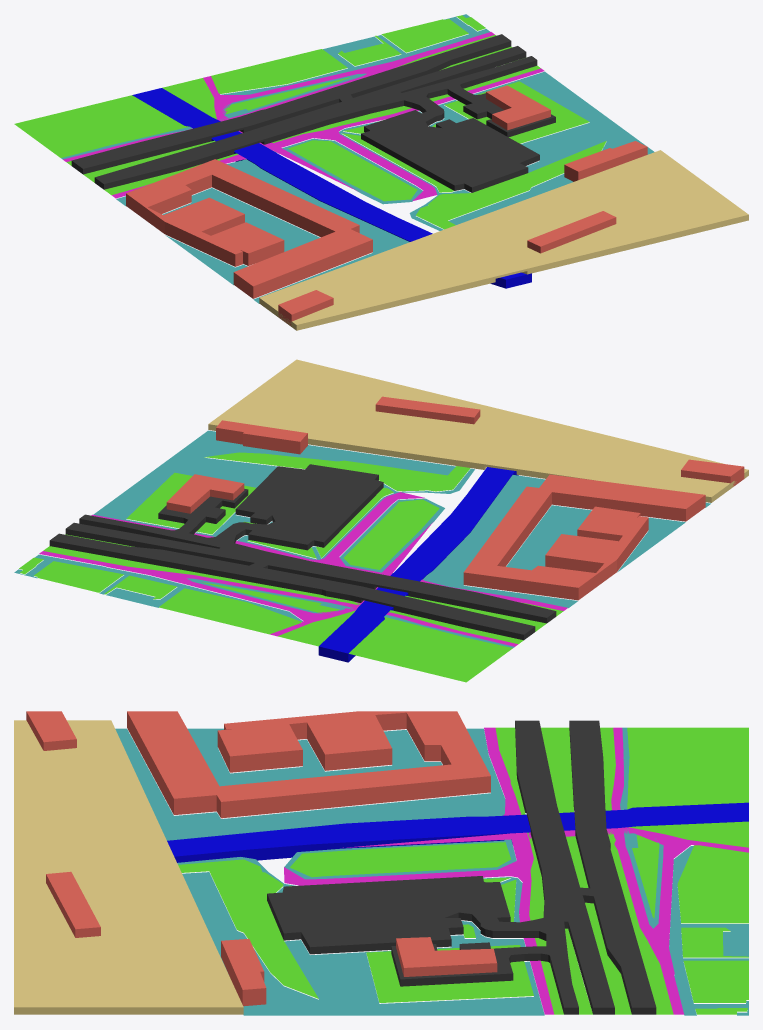
File: mapdata exported.fbx
3 views of the same model, one above another, from view 1: azimuth 30°, elevation 25°; view 2: azimuth 150°, elevation 25°; view 3: azimuth 270°, elevation 25° (orthographic). The views are drawn at different scales.
Visible parts, largest first — view 1: Traintracks, Urban, Greenery, Buildings, Walking area, River, Bike lane; view 2: Urban, Traintracks, Greenery, Buildings, Walking area, River, Bike lane; view 3: Greenery, Traintracks, Urban, Buildings, Walking area, River, Bike lane.
Boxes of the visible parts, left/top/right/bottom form: Traintracks: left=259, top=150, right=748, bottom=330; Urban: left=71, top=34, right=555, bottom=192; Greenery: left=14, top=15, right=606, bottom=229; Buildings: left=126, top=85, right=647, bottom=326; Walking area: left=61, top=14, right=654, bottom=303; River: left=132, top=88, right=531, bottom=288; Bike lane: left=63, top=32, right=544, bottom=201; Urban: left=49, top=464, right=556, bottom=640; Traintracks: left=208, top=359, right=748, bottom=502; Greenery: left=19, top=452, right=563, bottom=682; Buildings: left=166, top=396, right=744, bottom=600; Walking area: left=14, top=430, right=710, bottom=647; River: left=318, top=467, right=518, bottom=662; Bike lane: left=39, top=492, right=567, bottom=646; Greenery: left=178, top=727, right=748, bottom=1014; Traintracks: left=14, top=720, right=243, bottom=1014; Urban: left=267, top=720, right=656, bottom=1014; Buildings: left=26, top=711, right=497, bottom=1006; Walking area: left=115, top=727, right=748, bottom=1015; River: left=167, top=802, right=748, bottom=862; Bike lane: left=284, top=727, right=748, bottom=1014.
Size of the model in its own units: 28.06 by 1.28 by 30.36.
